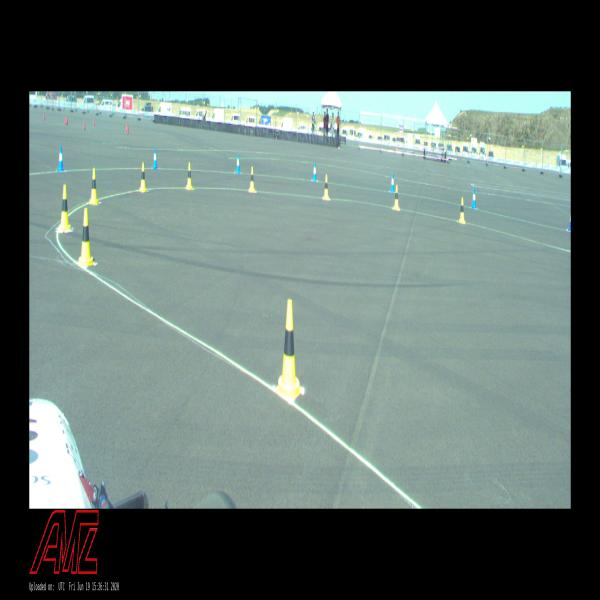blue_cone: (57, 145, 64, 171), (152, 147, 158, 169), (471, 188, 477, 209), (312, 163, 317, 182), (390, 174, 395, 192), (236, 154, 240, 173), (568, 214, 571, 231)
yellow_cone: (276, 299, 302, 399), (79, 209, 93, 266), (59, 184, 71, 232), (89, 168, 99, 204), (139, 162, 148, 192), (186, 163, 193, 189), (459, 197, 465, 224), (323, 174, 329, 199), (394, 184, 400, 209), (249, 167, 255, 191)
